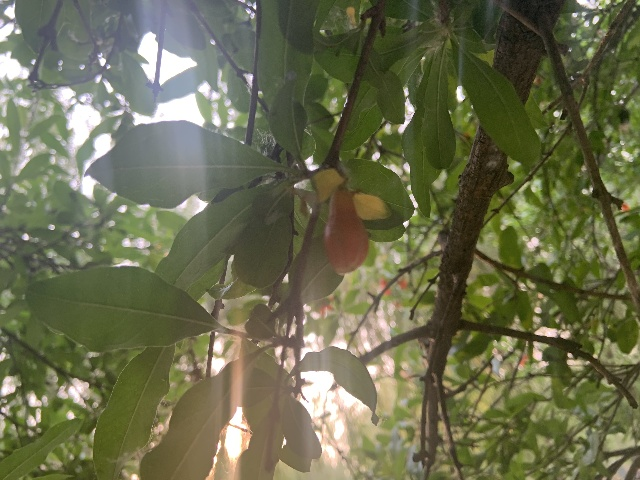bud: (324, 192, 368, 274)
